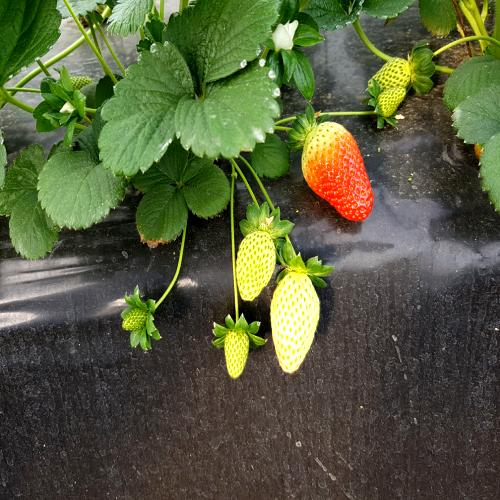partially-ripe: (299, 108, 375, 233)
